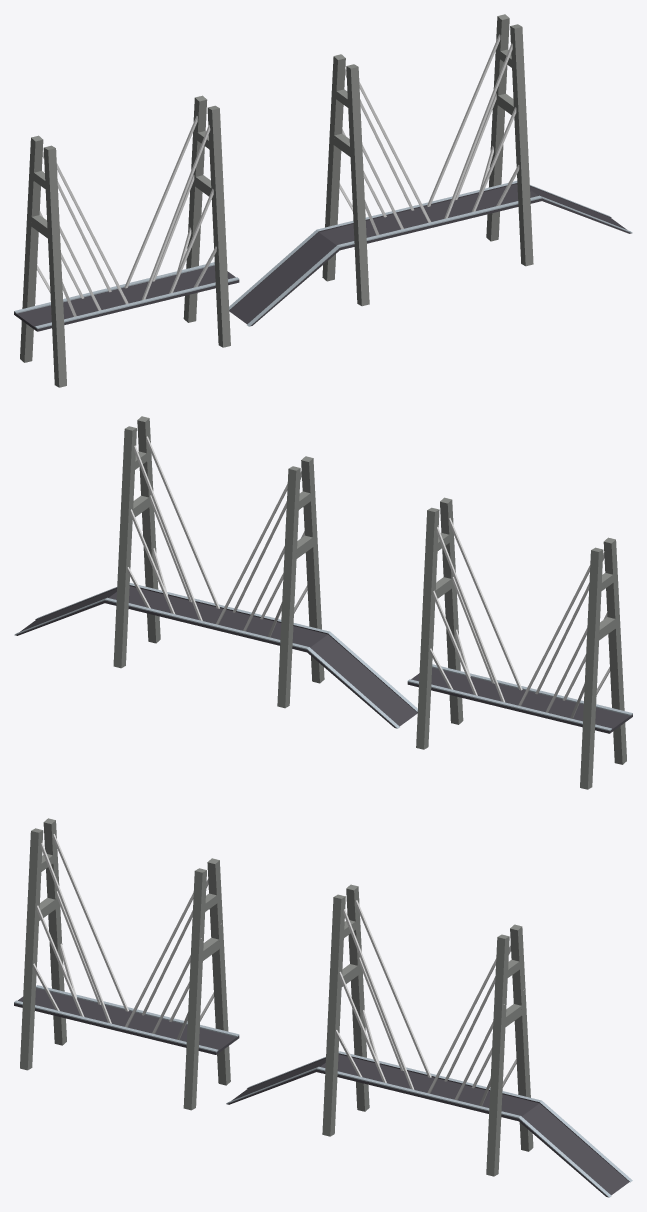
Rendered from Bridge_fix.fbx.
The picture shows the model from 3 angles, top to bottom: view 1: azimuth 30°, elevation 25°; view 2: azimuth 150°, elevation 25°; view 3: azimuth 330°, elevation 25°; orthographic projection.
Visible parts, largest first — view 1: Cube.001, Cube.009, Cube.008, Cube.012; view 2: Cube.001, Cube.009, Cube.008, Cube.012; view 3: Cube.001, Cube.009, Cube.008, Cube.012.
Part boxes in pixels (left/top/right/bottom): Cube.001: left=14, top=95, right=239, bottom=387; Cube.009: left=322, top=14, right=533, bottom=306; Cube.008: left=229, top=181, right=632, bottom=326; Cube.012: left=339, top=34, right=519, bottom=235; Cube.001: left=407, top=497, right=632, bottom=789; Cube.009: left=113, top=416, right=324, bottom=708; Cube.008: left=14, top=583, right=417, bottom=728; Cube.012: left=127, top=436, right=307, bottom=637; Cube.001: left=14, top=818, right=239, bottom=1110; Cube.009: left=322, top=884, right=533, bottom=1176; Cube.008: left=226, top=1051, right=632, bottom=1197; Cube.012: left=335, top=900, right=524, bottom=1106.
Size of the model in its own units: 17528 by 6689 by 2007.
